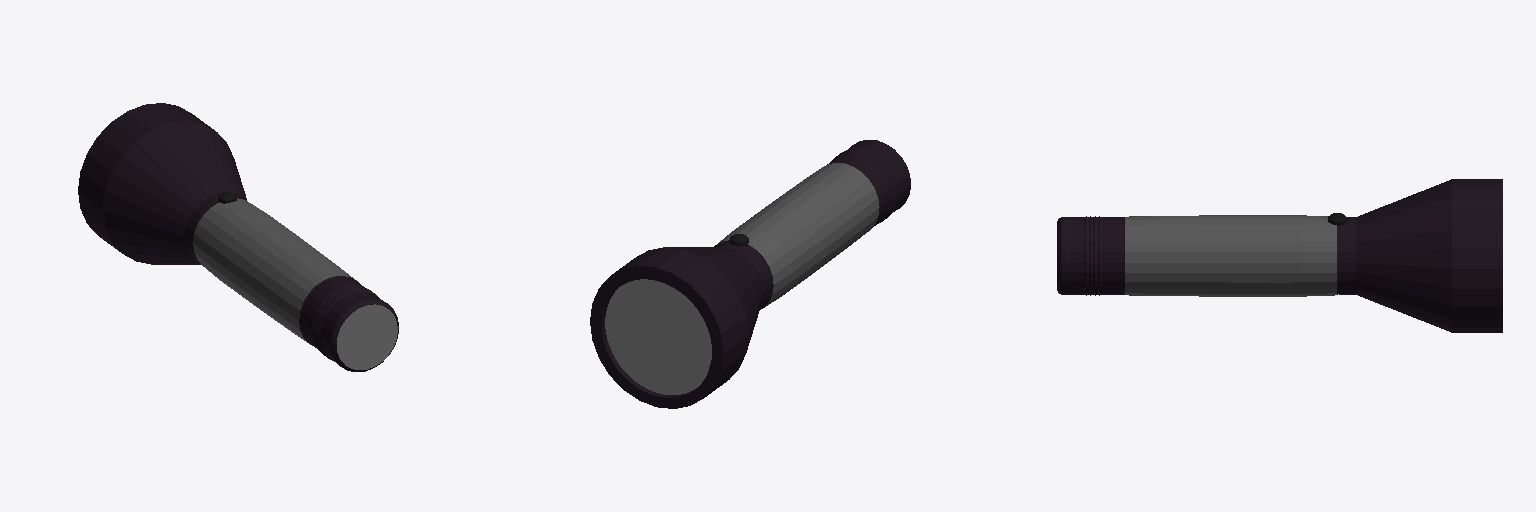
Rendered from spotlight.obj.
3 views of the same model, side by side, from view 1: azimuth 30°, elevation 25°; view 2: azimuth 150°, elevation 25°; view 3: azimuth 270°, elevation 25° (orthographic).
Parts seen in each view (by area): view 1: Loft01; view 2: Loft01, Cylinder01; view 3: Loft01.
Part boxes in pixels (left/top/right/bottom): Loft01: left=78, top=103, right=398, bottom=371; Loft01: left=590, top=140, right=910, bottom=408; Cylinder01: left=605, top=279, right=711, bottom=394; Loft01: left=1057, top=179, right=1502, bottom=332.
Bounding box in the file's own units: 38.15 × 38.15 × 110.